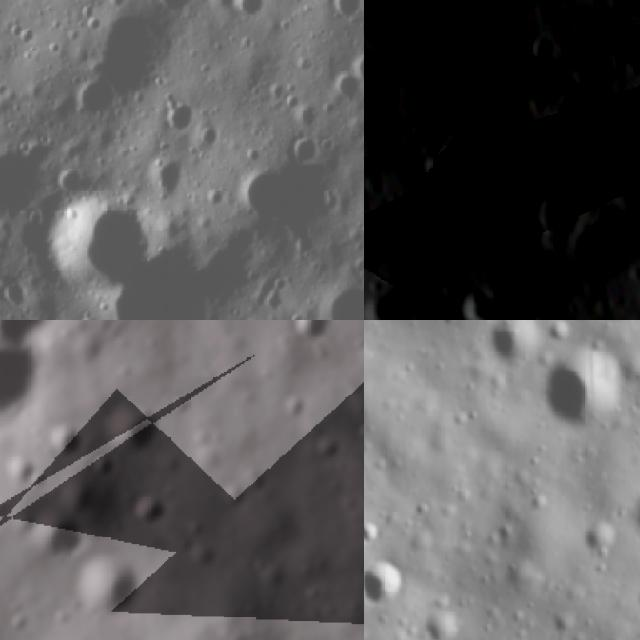crater: (33, 180, 150, 298), (546, 346, 633, 438), (521, 176, 603, 262), (449, 260, 562, 320), (57, 557, 149, 628), (0, 320, 50, 441), (0, 135, 53, 221), (232, 158, 298, 224), (108, 402, 164, 466), (32, 514, 85, 580), (406, 144, 466, 197), (482, 320, 540, 364), (119, 494, 176, 534), (70, 75, 116, 121), (143, 156, 191, 200), (364, 562, 408, 608), (364, 283, 417, 320), (322, 277, 364, 320), (42, 426, 89, 464), (58, 485, 98, 528), (530, 28, 570, 68), (330, 64, 364, 107), (576, 522, 616, 558), (0, 457, 37, 494), (153, 102, 191, 136), (423, 612, 466, 640), (230, 0, 270, 29), (86, 456, 119, 491), (291, 132, 323, 166), (193, 121, 222, 157), (325, 0, 364, 26), (528, 89, 558, 118), (364, 520, 384, 543), (629, 259, 640, 290), (411, 503, 435, 517)
